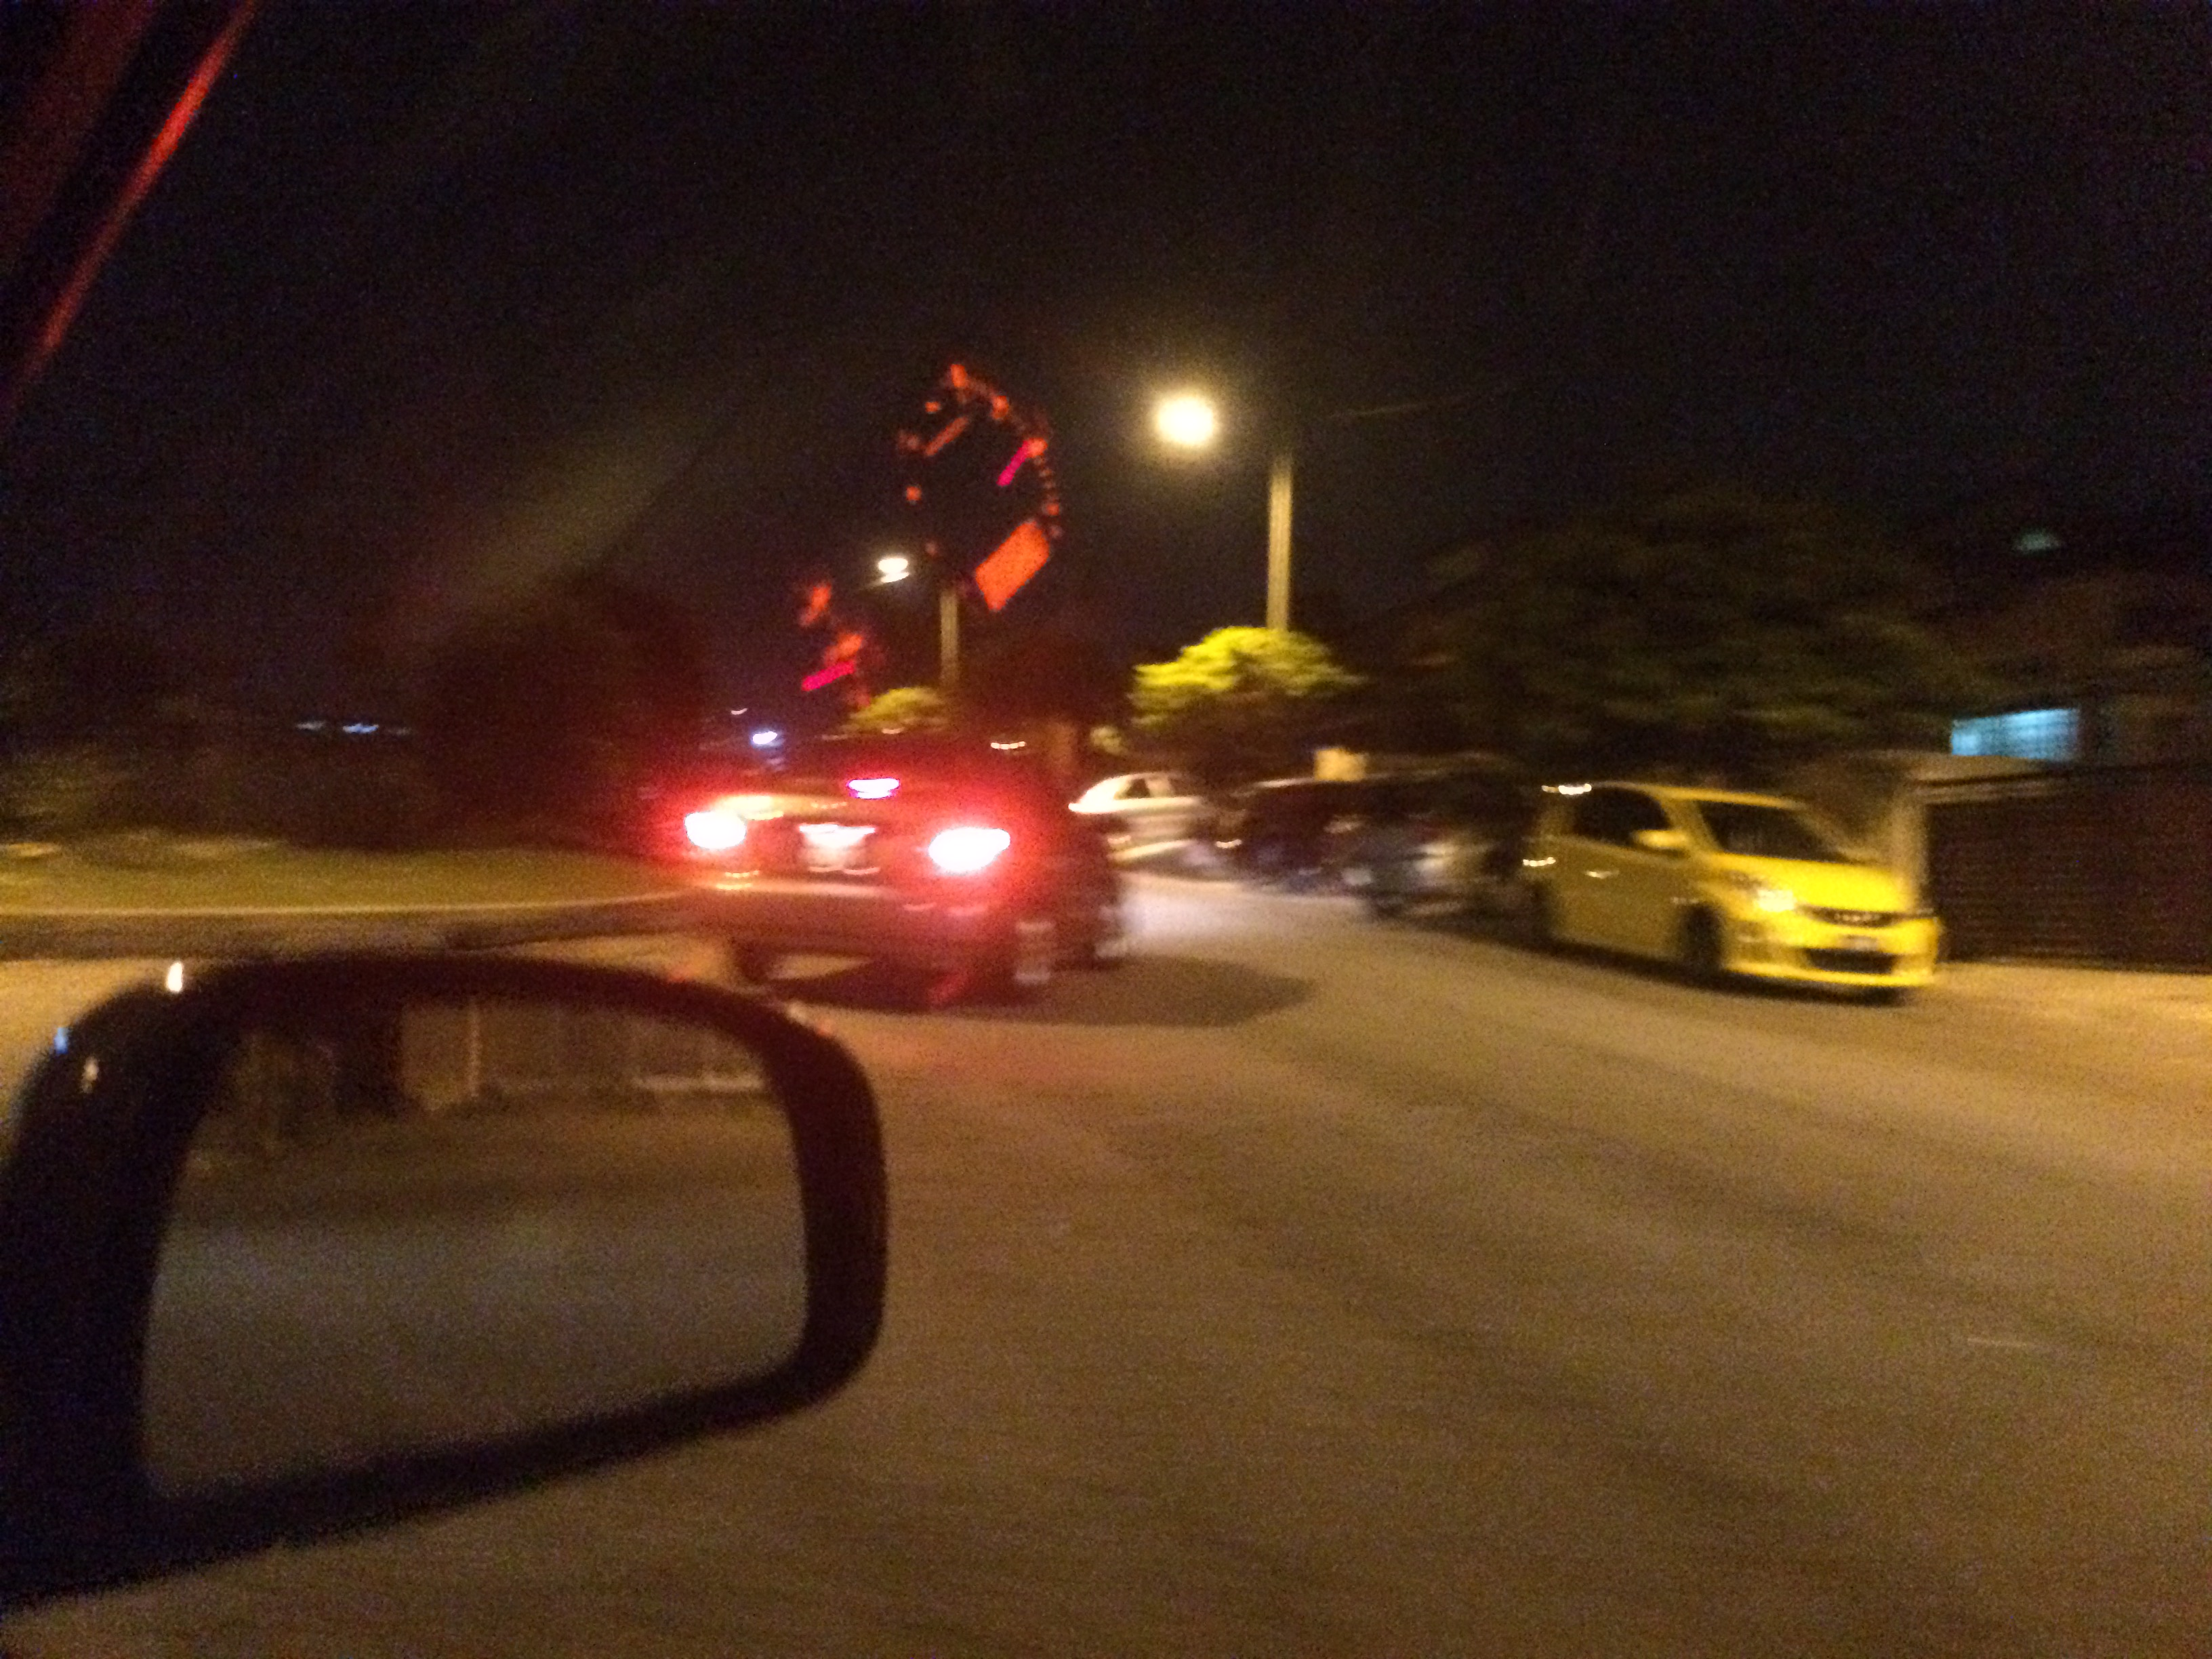car: (662, 714, 1148, 1033)
